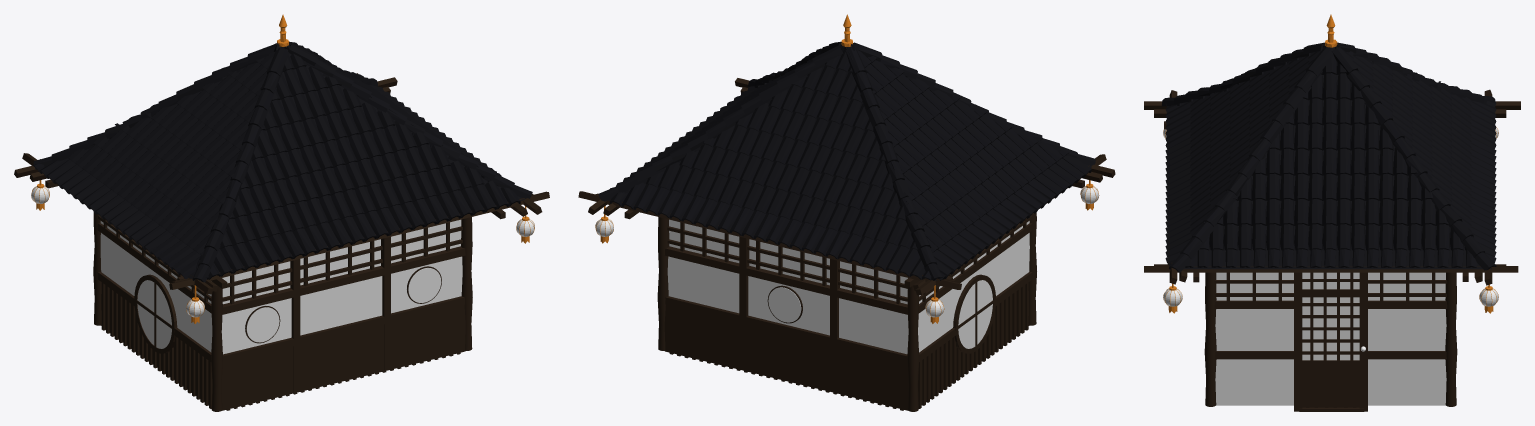
Rendered from Japanese_House.fbx.
3 views of the same model, side by side, from view 1: azimuth 30°, elevation 25°; view 2: azimuth 150°, elevation 25°; view 3: azimuth 270°, elevation 25° (orthographic).
Visible parts, largest first — view 1: Circle.022, Circle.024, Japanese Haus, Cube.472, Circle.021, Circle.023, Cube.467, Plane.218, Cube.295, Circle.030, Circle.031, Cube.298 (+14 smaller); view 2: Circle.022, Circle.024, Japanese Haus, Cube.472, Circle.021, Circle.023, Cube.467, Plane.218, Cube.295, Circle.029, Circle.028, Cube.298 (+14 smaller); view 3: Circle.025, Japanese Haus, Circle.022, Circle.021, Circle.023, Circle.031, Circle.028, Plane.022, Plane.217, Cube.295, Cube.441, Cube.461 (+16 smaller).
Boxes of the visible parts, x1,y1,x2,y2 form: Circle.022: (219,43,484,249); Circle.024: (68,47,284,255); Japanese Haus: (100,49,524,354); Cube.472: (221,304,465,410); Circle.021: (199,180,520,280); Circle.023: (32,84,501,278); Cube.467: (101,282,212,408); Plane.218: (222,219,461,304); Cube.295: (93,212,472,411); Circle.030: (192,48,289,282); Circle.031: (288,43,532,198); Cube.298: (222,246,465,314); Circle.022: (646,43,917,249); Circle.024: (845,47,1069,252); Japanese Haus: (608,54,1091,354); Cube.472: (664,305,908,410); Circle.021: (609,182,931,280); Circle.023: (610,86,1091,280); Cube.467: (918,282,1028,408); Plane.218: (669,219,907,304); Cube.295: (657,212,1036,411); Circle.029: (845,47,943,280); Circle.028: (598,45,843,201); Cube.298: (664,246,907,314); Circle.025: (1199,47,1466,250); Japanese Haus: (1170,61,1491,405); Circle.022: (1190,45,1471,235); Circle.021: (1165,100,1496,265); Circle.023: (1185,249,1476,267); Circle.031: (1169,48,1333,272); Circle.028: (1332,47,1496,270); Plane.022: (1302,272,1359,360); Plane.217: (1216,272,1445,300); Cube.295: (1204,272,1457,406); Cube.441: (1294,272,1367,411); Cube.461: (1144,101,1520,272).
Size of the model in its own units: 1671 by 1372 by 1408.
